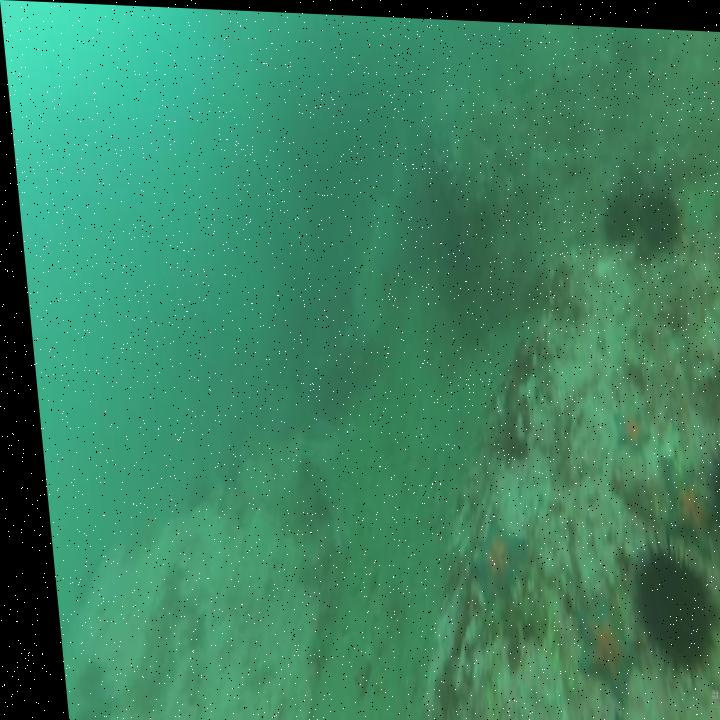echinus: (611, 516, 715, 688), (687, 427, 720, 551), (630, 174, 683, 251), (589, 171, 644, 244)
starfish: (557, 590, 631, 705), (453, 512, 526, 612), (651, 450, 709, 537), (597, 395, 647, 453)
